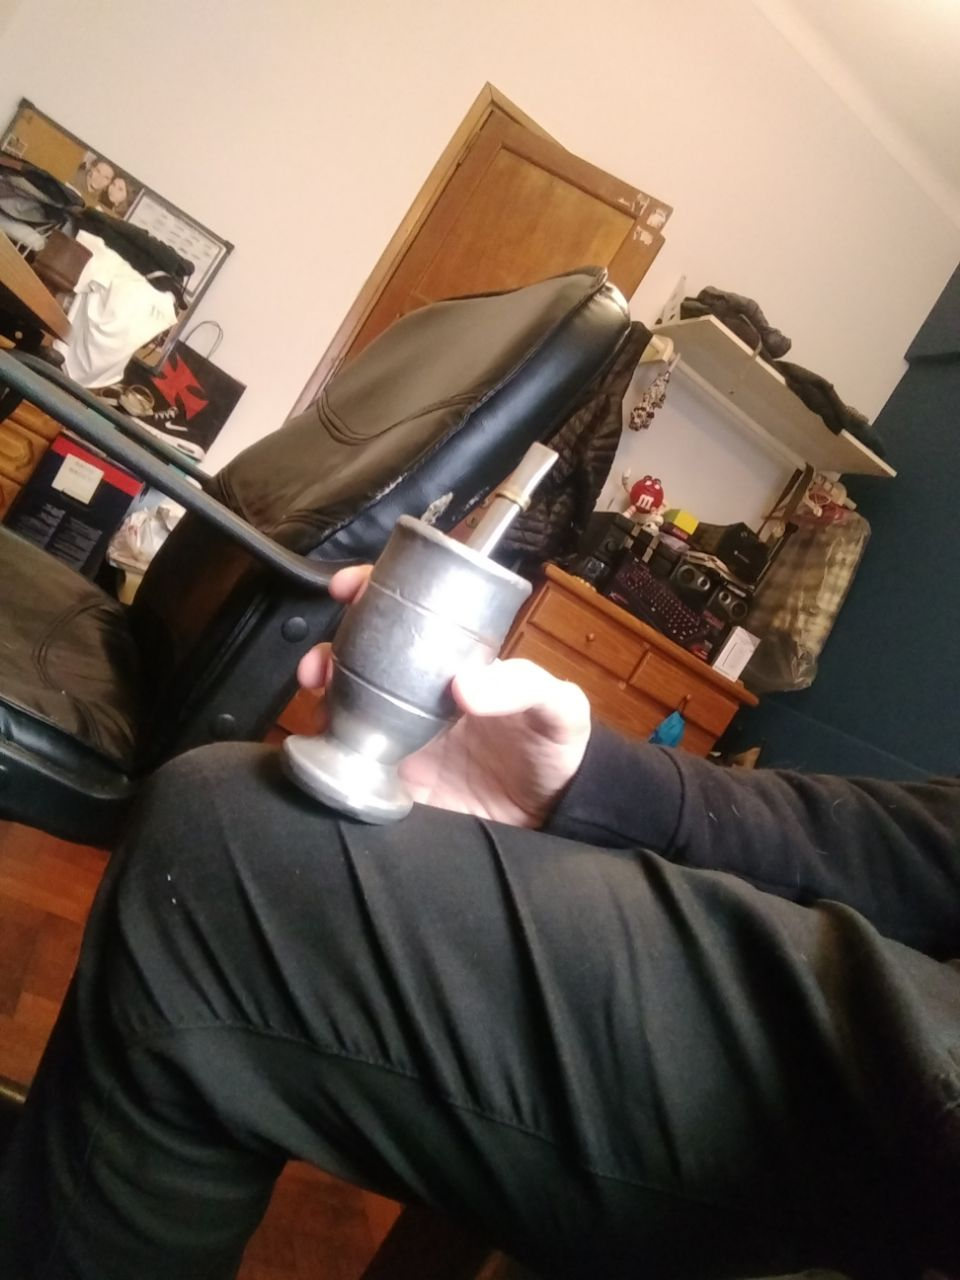mate: (271, 440, 568, 835)
metal: (269, 438, 566, 833)
